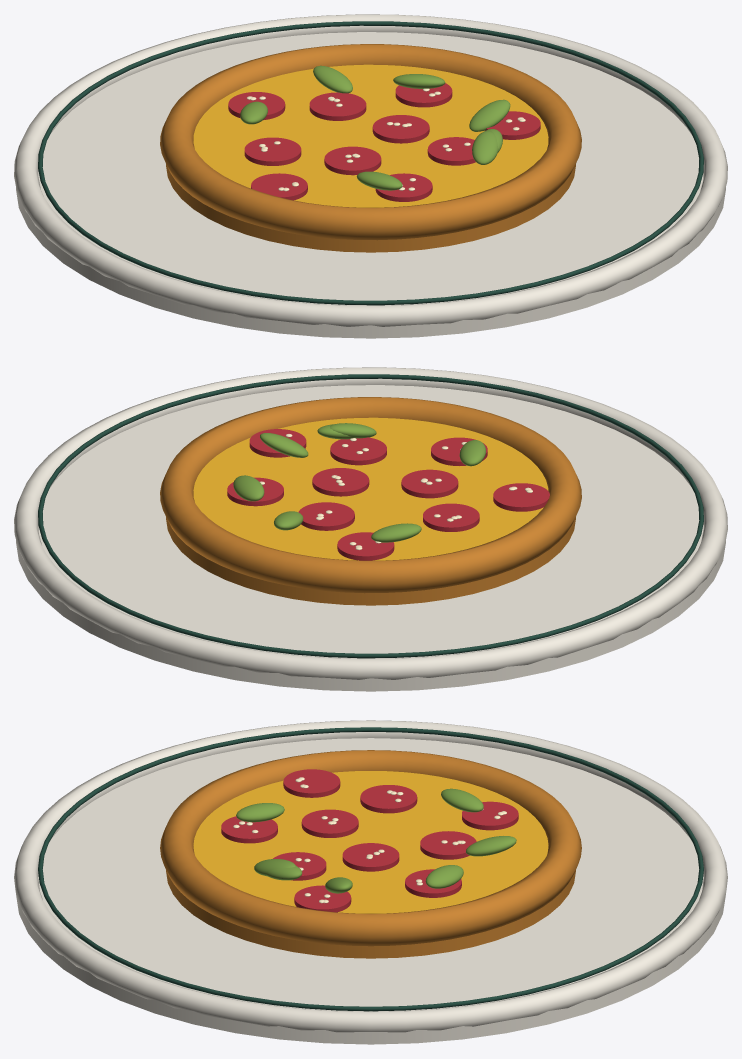
The model's file is pizza-small.glb.
3 views of the same model, one above another, from view 1: azimuth 30°, elevation 25°; view 2: azimuth 150°, elevation 25°; view 3: azimuth 270°, elevation 25° (orthographic).
Visible parts, largest first — view 1: Morsel original pizza small, leaf (×5); view 2: Morsel original pizza small, leaf (×4); view 3: Morsel original pizza small, leaf (×4).
Part boxes in pixels (<box>): Morsel original pizza small: <box>14,14,727,338</box>; leaf (×5): <box>313,65,510,190</box>; Morsel original pizza small: <box>14,367,727,691</box>; leaf (×4): <box>233,433,485,542</box>; Morsel original pizza small: <box>14,720,727,1044</box>; leaf (×4): <box>236,788,516,888</box>.
Bounding box in the file's own units: 3.52 × 0.3741 × 3.52.
